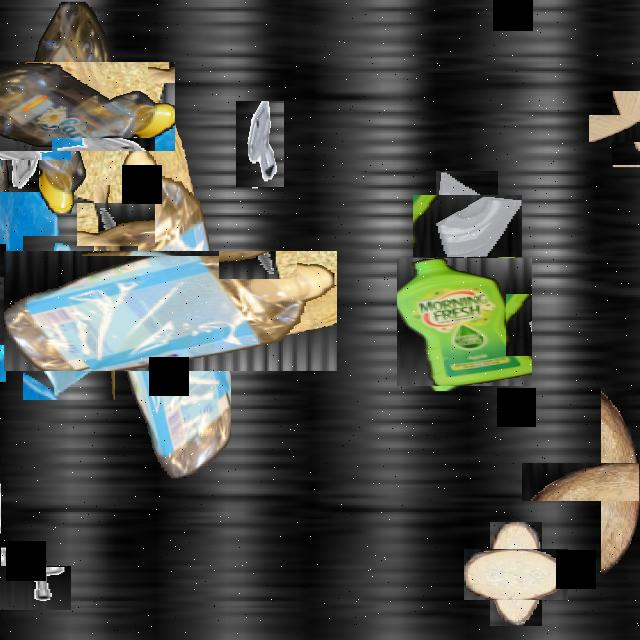glass: (23, 236, 115, 400), (0, 135, 63, 292), (424, 183, 510, 269), (0, 276, 39, 349)
metal: (236, 101, 284, 187), (0, 552, 57, 624), (0, 105, 55, 176), (86, 193, 146, 254), (0, 277, 29, 345)
plastic: (56, 198, 284, 424), (0, 31, 145, 181), (398, 256, 530, 388), (0, 443, 1, 638)
wood: (19, 62, 205, 204), (561, 423, 640, 540), (477, 535, 555, 613), (600, 102, 640, 153)
